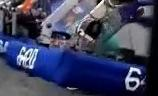blue_number: (12, 45, 42, 71)
